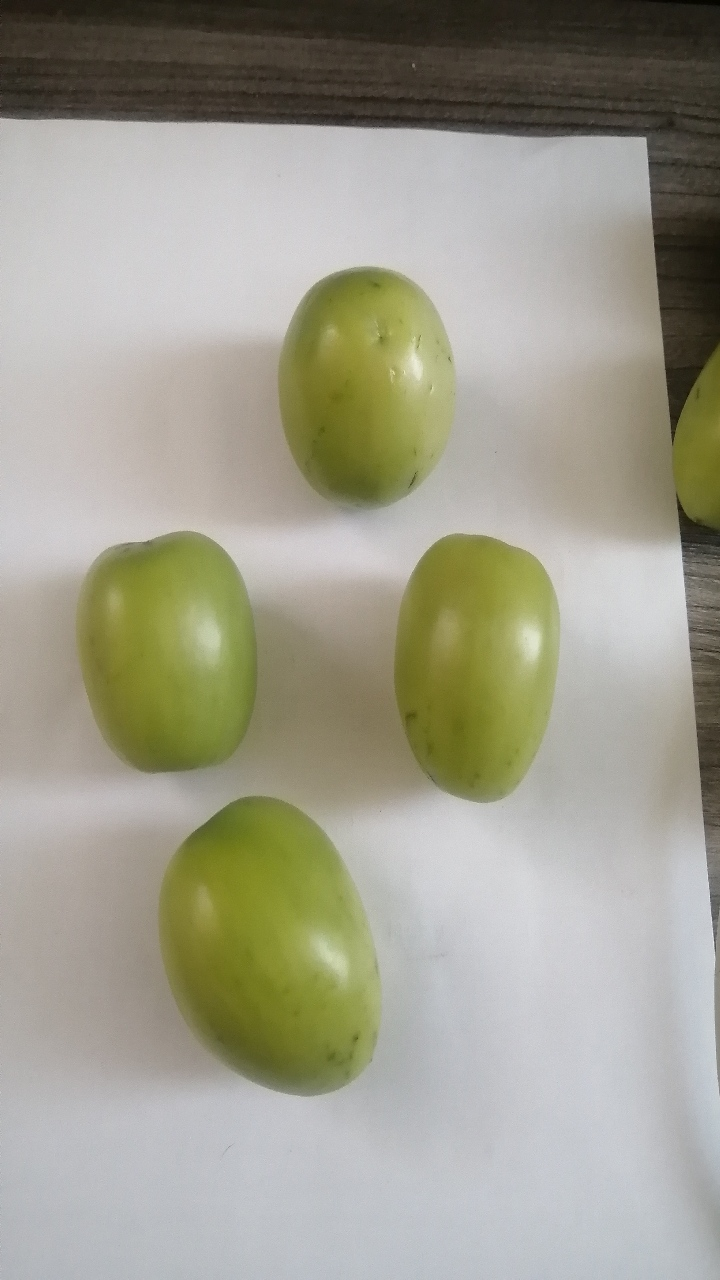tomateVerde: (114, 777, 404, 1129), (237, 229, 486, 528), (52, 497, 289, 792), (377, 523, 571, 809)
